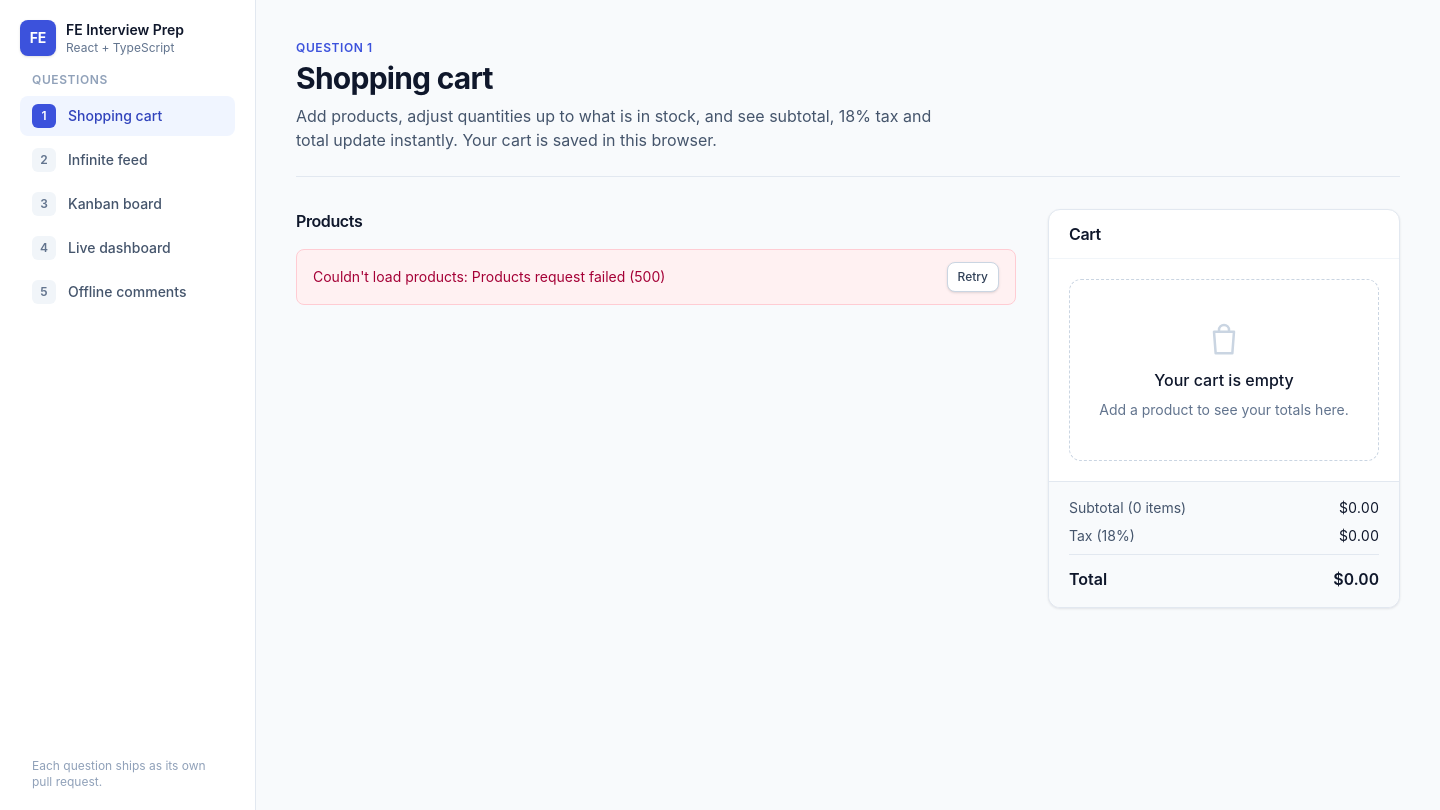
Test: Shopping cart page › shows an error with a working retry
Expected: the message "Couldn't load products: Products request failed (500) Retry" is shown, [296,249,1016,305]
Click the button "Retry".
click(973, 277)  # box [946,262,999,292]
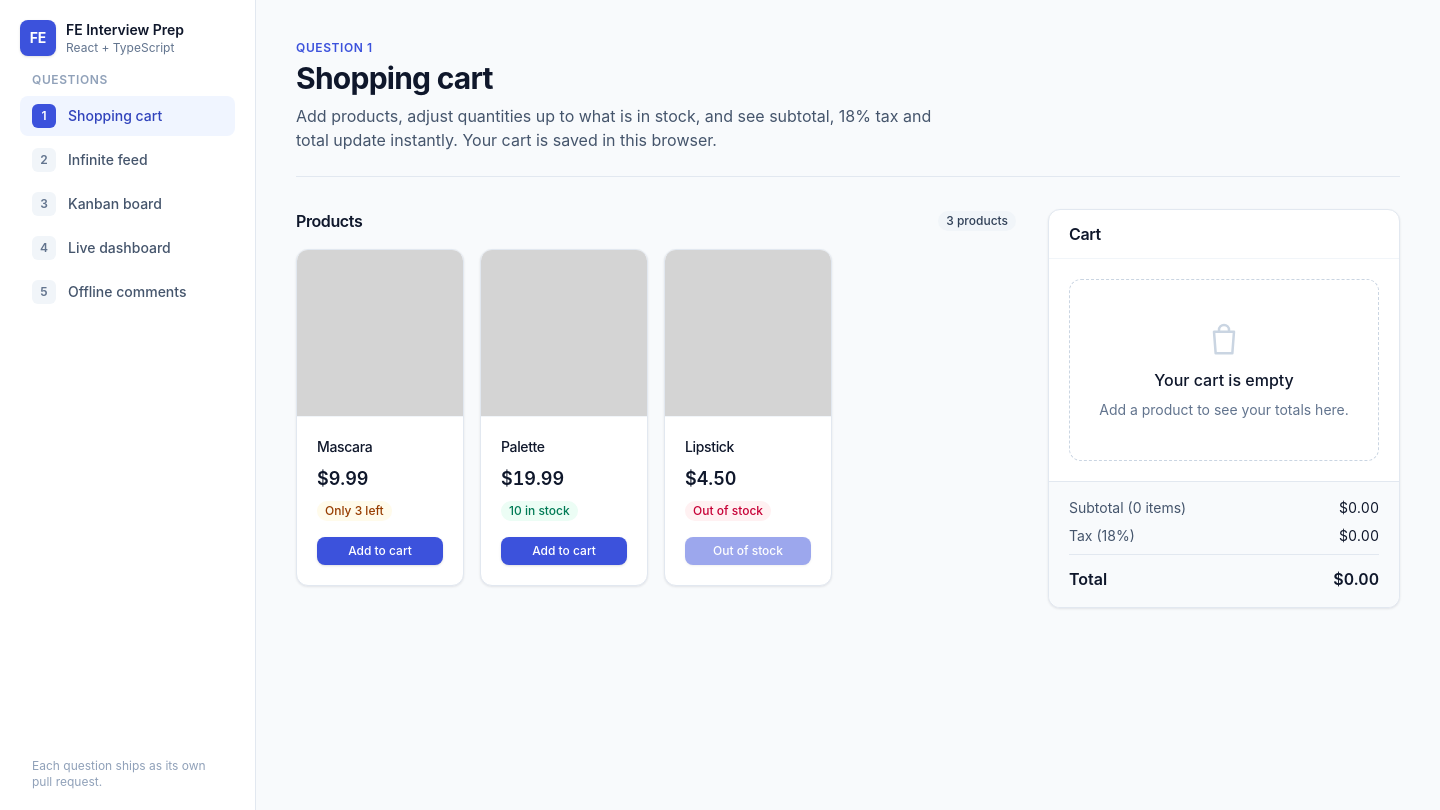
Expected: the button with aria-label "Add to cart: Mascara" is enabled, [317,537,443,565]
Expected: the message "Couldn't load products: Products request failed (500) Retry" is gone
